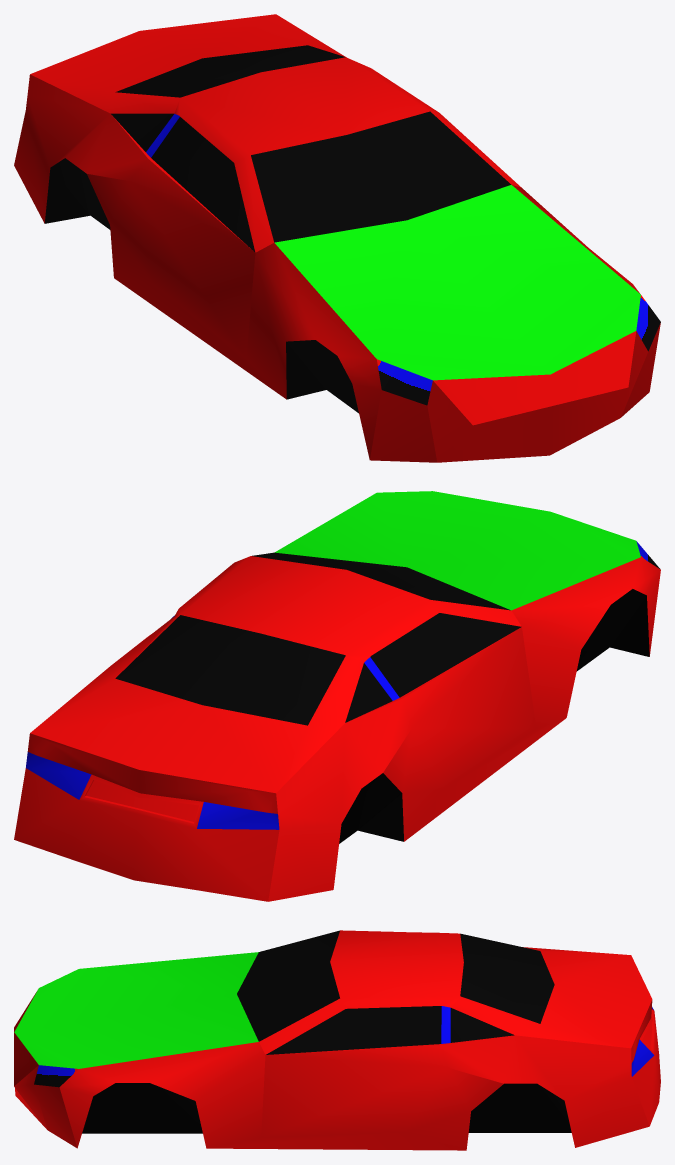
File: coupe-gt-lod2.glb
3 views of the same model, one above another, from view 1: azimuth 30°, elevation 25°; view 2: azimuth 150°, elevation 25°; view 3: azimuth 270°, elevation 25° (orthographic). The views are drawn at different scales.
Visible parts, largest first — view 1: body; view 2: body; view 3: body.
Boxes of the visible parts, x1,y1,x2,y2 form: body: (14, 14, 660, 462); body: (14, 491, 660, 901); body: (14, 930, 660, 1150).
Size of the model in its own units: 2.08 by 1.15 by 5.06.
Materials: 1 (1 with a texture image).
